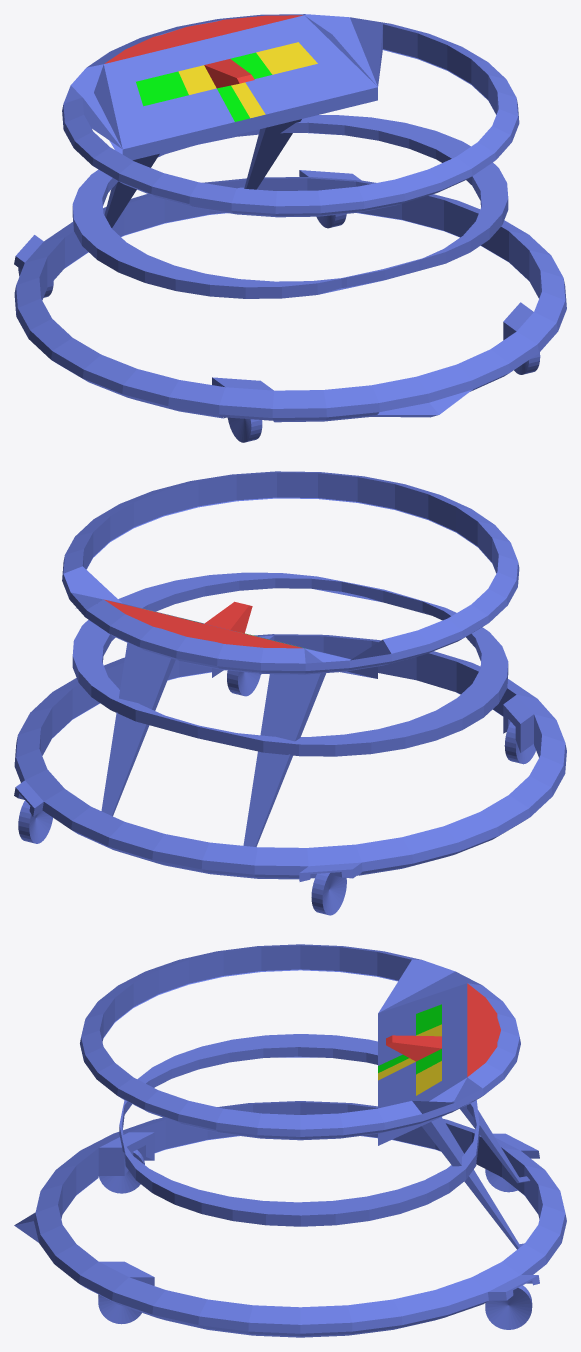
Rendered from babyCar.fbx.
3 views of the same model, one above another, from view 1: azimuth 30°, elevation 25°; view 2: azimuth 150°, elevation 25°; view 3: azimuth 270°, elevation 25° (orthographic). The views are drawn at different scales.
Visible parts, largest first — view 1: Circle; view 2: Circle; view 3: Circle.
Boxes of the visible parts, x1,y1,x2,y2 form: Circle: (14, 14, 566, 442); Circle: (14, 471, 566, 915); Circle: (14, 944, 566, 1337).
Size of the model in its own units: 0.3607 by 0.1704 by 0.3742.
